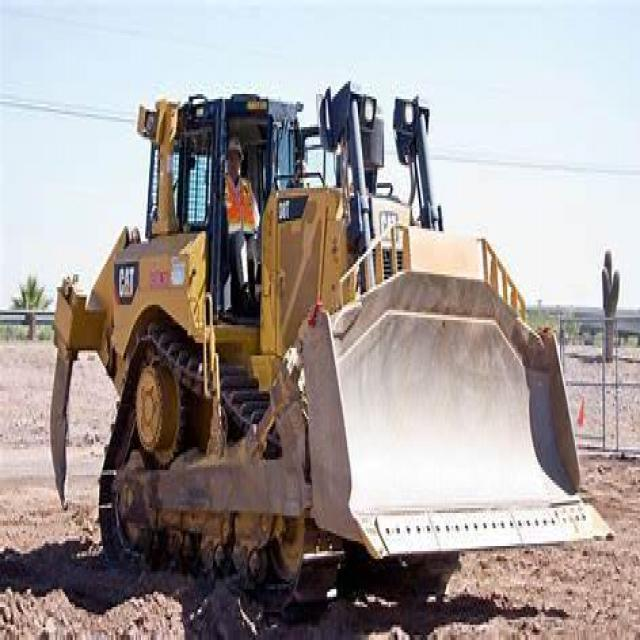Bulldozer: (43, 63, 624, 630)
